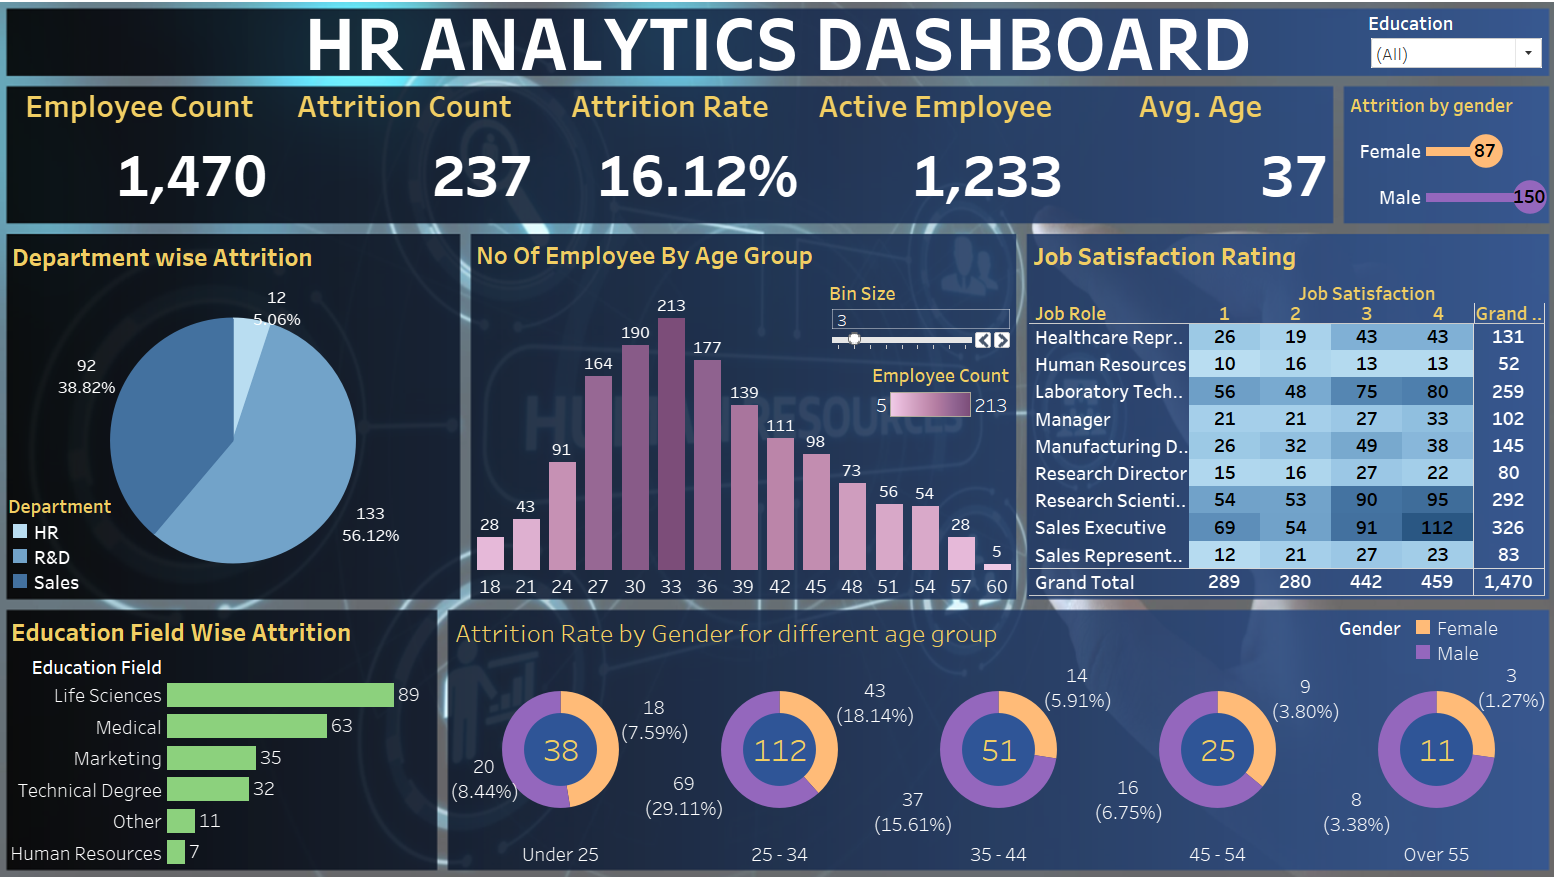

This screenshot's page, from the dashboard's own definition file:
{"tool":"tableau","page":{"name":"HR Analytics Dashboard ","canvas":[1580,900],"ordinal":0},"visuals":[{"type":"image","param":"Image/HR background.pptx.png","box":[8,8,1564,884]},{"type":"text","box":[19,19,1542,64]},{"type":"filter","title":"No Of Employee By Age Group","param":"[federated.1w6su6r0aoozkj186gb560z6rwju].[none:Education:nk]","box":[1380,20,177,60]},{"type":"worksheet","title":"kpi","mark":"Automatic","box":[19,95,1326,137]},{"type":"worksheet","title":"Attrition by gender","mark":"Automatic","rows":["Gender"],"cols":["Calculation_544091139414372352","Calculation_544091139414372352"],"box":[1358,98,206,132]},{"type":"worksheet","title":"No Of Employee By Age Group","mark":"Automatic","rows":["Employee Count"],"cols":["Age (bin)"],"box":[484,244,544,365]},{"type":"worksheet","title":"Job Satisfaction Rating","mark":"Square","rows":["Job Role"],"cols":["Job Satisfaction"],"box":[1041,245,517,361]},{"type":"worksheet","title":"Department wise Attrition","mark":"Pie","box":[20,246,450,361]},{"type":"parameter","param":"[Parameters].[Parameter 1]","box":[841,290,184,75]},{"type":"legend","title":"No Of Employee By Age Group","param":"[federated.1w6su6r0aoozkj186gb560z6rwju].[sum:Employee Count:qk]","box":[884,372,140,58]},{"type":"legend","title":"Department wise Attrition","param":"[federated.1w6su6r0aoozkj186gb560z6rwju].[none:Department:nk]","box":[20,503,140,101]},{"type":"worksheet","title":"Education Field Wise Attrition","mark":"Automatic","rows":["Education Field"],"cols":["Calculation_544091139414372352"],"box":[19,621,430,257]},{"type":"worksheet","title":"Attrition Rate by Gender for different age group","mark":"Pie","rows":["Calculation_544091139493539844","Calculation_544091139493539844"],"cols":["CF_age band"],"box":[463,622,1095,255]},{"type":"legend","title":"Attrition Rate by Gender for different age group","param":"[federated.1w6su6r0aoozkj186gb560z6rwju].[none:Gender:nk]","box":[1351,625,189,50]}]}

Visuals, with their boxes in screenshot pixels (x1, y1, x2, y2), scaled from the page's 1580x900 canvas onto the 1554x878 screenshot:
image: l=8, t=8, r=1546, b=870
text: l=19, t=19, r=1535, b=81
"No Of Employee By Age Group" filter: l=1357, t=20, r=1531, b=78
"kpi" worksheet: l=19, t=93, r=1323, b=226
"Attrition by gender" worksheet: l=1336, t=96, r=1538, b=224
"No Of Employee By Age Group" worksheet: l=476, t=238, r=1011, b=594
"Job Satisfaction Rating" worksheet (Square marks): l=1024, t=239, r=1532, b=591
"Department wise Attrition" worksheet (Pie marks): l=20, t=240, r=462, b=592
parameter: l=827, t=283, r=1008, b=356
"No Of Employee By Age Group" legend: l=869, t=363, r=1007, b=419
"Department wise Attrition" legend: l=20, t=491, r=157, b=589
"Education Field Wise Attrition" worksheet: l=19, t=606, r=442, b=857
"Attrition Rate by Gender for different age group" worksheet (Pie marks): l=455, t=607, r=1532, b=856
"Attrition Rate by Gender for different age group" legend: l=1329, t=610, r=1515, b=658
